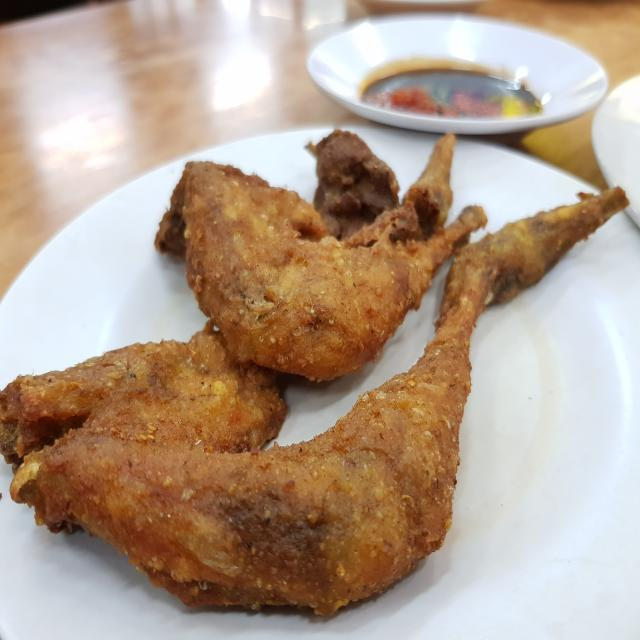Frango: (23, 182, 629, 640), (155, 154, 492, 388)
